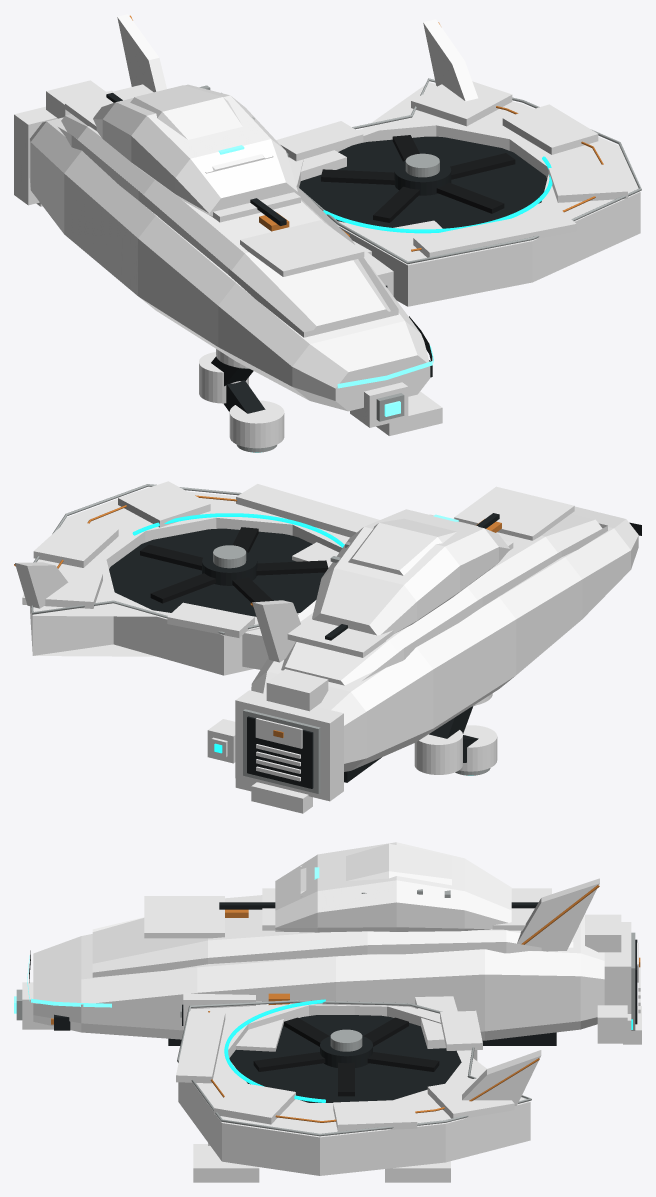
The model's file is morrowgear-family-a-engineer-v5.glb.
3 renders of one model, top to bottom at view 1: azimuth 30°, elevation 25°; view 2: azimuth 150°, elevation 25°; view 3: azimuth 270°, elevation 25°, orthographic. The views are drawn at different scales.
Visible parts, largest first — view 1: F01_Fuselage, W02_DuctWing.R, F02_UpperArmor, ENG_PowerCowl, R02_InnerWell.R, F02_TopPanel_0, ENG_CowlArmor, W02_ArmorPanel_0.R, W02_ArmorPanel_2.R, W02_ArmorPanel_1.R, W02_ArmorPanel_3.R, W04_RearTipFairing.R (+20 smaller); view 2: F01_Fuselage, W02_DuctWing.R, ENG_PowerCowl, F02_UpperArmor, R02_InnerWell.R, V01_RearHousing, ENG_CowlArmor, F02_TopPanel_0, W02_ArmorPanel_0.R, W02_ArmorPanel_2.R, W02_ArmorPanel_1.R, V01_Recess (+23 smaller); view 3: F01_Fuselage, W02_DuctWing.R, ENG_PowerCowl, F02_UpperArmor, R02_InnerWell.R, F02_TopPanel_0, ENG_CowlArmor, T02_CenterFin.R, W02_ArmorPanel_0.R, W02_ArmorPanel_2.R, W02_ArmorPanel_1.R, W04_RearTipFairing.R (+24 smaller).
Boxes of the visible parts, left/top/right/bottom form: F01_Fuselage: left=29, top=117, right=430, bottom=411; W02_DuctWing.R: left=288, top=82, right=640, bottom=306; F02_UpperArmor: left=58, top=114, right=398, bottom=337; ENG_PowerCowl: left=93, top=84, right=297, bottom=216; R02_InnerWell.R: left=299, top=136, right=547, bottom=228; F02_TopPanel_0: left=240, top=220, right=364, bottom=276; ENG_CowlArmor: left=130, top=85, right=273, bottom=173; W02_ArmorPanel_0.R: left=413, top=209, right=576, bottom=257; W02_ArmorPanel_2.R: left=502, top=104, right=598, bottom=154; W02_ArmorPanel_1.R: left=548, top=164, right=627, bottom=202; W02_ArmorPanel_3.R: left=411, top=81, right=512, bottom=126; W04_RearTipFairing.R: left=423, top=19, right=477, bottom=101; F01_Fuselage: left=251, top=506, right=638, bottom=771; W02_DuctWing.R: left=30, top=491, right=349, bottom=675; ENG_PowerCowl: left=312, top=509, right=510, bottom=635; F02_UpperArmor: left=281, top=513, right=607, bottom=685; R02_InnerWell.R: left=109, top=528, right=324, bottom=616; V01_RearHousing: left=235, top=690, right=343, bottom=801; ENG_CowlArmor: left=348, top=514, right=478, bottom=575; F02_TopPanel_0: left=454, top=486, right=574, bottom=540; W02_ArmorPanel_0.R: left=236, top=484, right=379, bottom=537; W02_ArmorPanel_2.R: left=33, top=519, right=118, bottom=567; W02_ArmorPanel_1.R: left=118, top=481, right=210, bottom=527; V01_Recess: left=247, top=716, right=313, bottom=788; F01_Fuselage: left=33, top=916, right=604, bottom=1040; W02_DuctWing.R: left=178, top=1004, right=530, bottom=1175; ENG_PowerCowl: left=275, top=842, right=511, bottom=932; F02_UpperArmor: left=92, top=895, right=573, bottom=977; R02_InnerWell.R: left=229, top=1015, right=461, bottom=1102; F02_TopPanel_0: left=144, top=896, right=224, bottom=938; ENG_CowlArmor: left=300, top=843, right=451, bottom=896; T02_CenterFin.R: left=517, top=878, right=599, bottom=951; W02_ArmorPanel_0.R: left=176, top=1011, right=225, bottom=1083; W02_ArmorPanel_2.R: left=333, top=1099, right=417, bottom=1131; W02_ArmorPanel_1.R: left=214, top=1082, right=295, bottom=1124; W04_RearTipFairing.R: left=462, top=1050, right=541, bottom=1105.
Size of what is drawn, in the model's own units: 4.8 by 2.86 by 5.9.
